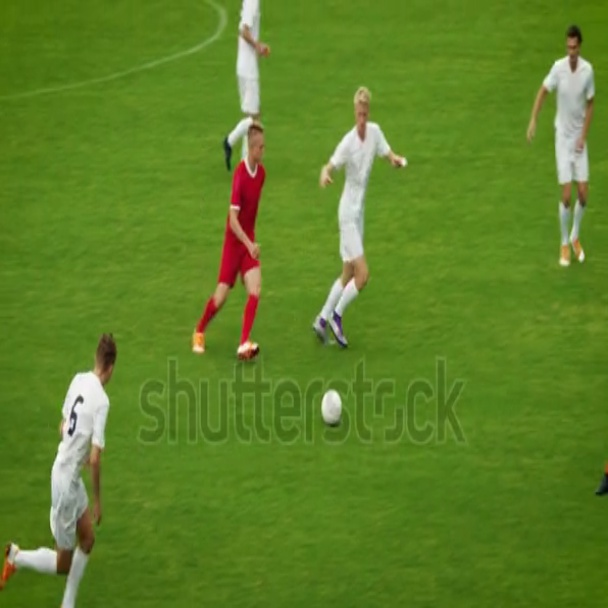ball: (316, 386, 347, 434)
